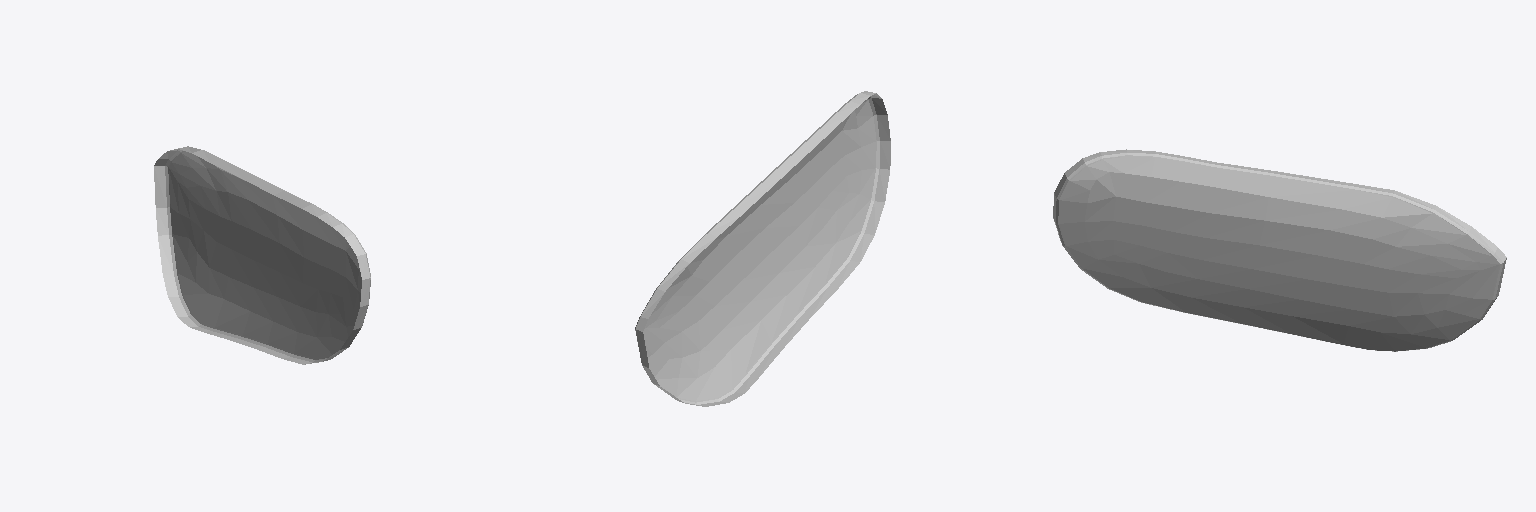
Rendered from vr_controller_05_wireless_b_Rgrip.obj.
The picture shows the model from 3 angles: view 1: azimuth 30°, elevation 25°; view 2: azimuth 150°, elevation 25°; view 3: azimuth 270°, elevation 25°; orthographic projection.
Visible parts, largest first — view 1: R_grip group1; view 2: R_grip group1; view 3: R_grip group1.
Part boxes in pixels (x1,y1,x2,y2): R_grip group1: (154,146,370,364); R_grip group1: (635,91,890,406); R_grip group1: (1053,149,1506,351).
Size of the model in its own units: 0.0044 by 0.0186 by 0.038.